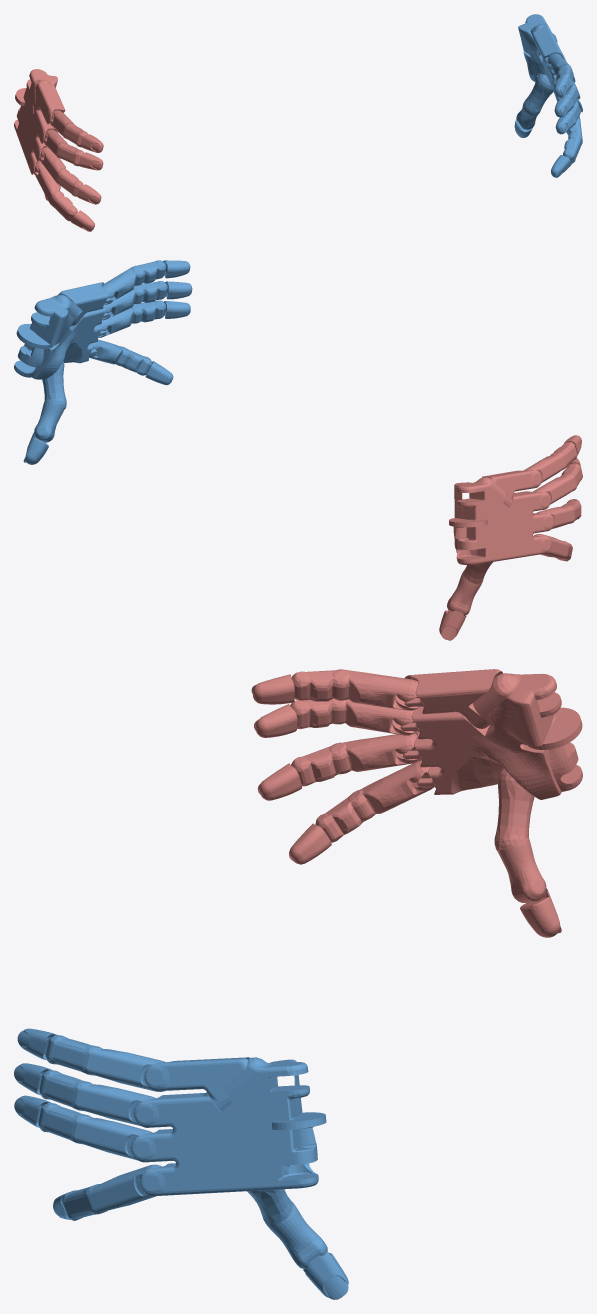
The model's file is toaster_pc.glb.
3 renders of one model, top to bottom at view 1: azimuth 30°, elevation 25°; view 2: azimuth 150°, elevation 25°; view 3: azimuth 270°, elevation 25°, orthographic. The views are drawn at different scales.
Parts seen in each view (by area): view 1: left_shadow_hand, right_shadow_hand; view 2: right_shadow_hand, left_shadow_hand; view 3: left_shadow_hand, right_shadow_hand.
Boxes of the visible parts, x1,y1,x2,y2 form: left_shadow_hand: (14, 69, 103, 231); right_shadow_hand: (514, 14, 582, 177); right_shadow_hand: (14, 260, 192, 464); left_shadow_hand: (439, 435, 582, 640); left_shadow_hand: (251, 669, 582, 937); right_shadow_hand: (14, 1028, 348, 1299).
Bounding box in the file's own units: 0.6573 × 0.1725 × 0.361.
